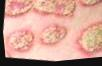plaque psoriasis: (2, 0, 78, 29), (73, 18, 102, 61), (2, 25, 35, 56), (36, 23, 67, 49), (77, 0, 102, 11), (4, 50, 8, 58)
